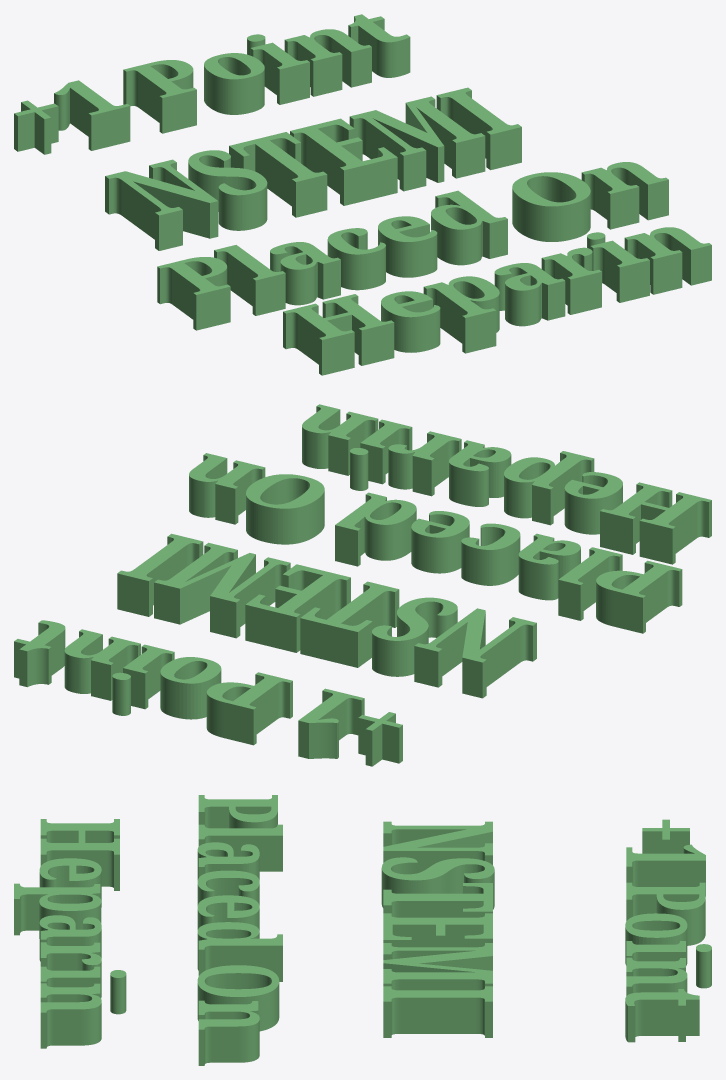
The model's file is poshep.gltf.
3 renders of one model, top to bottom at view 1: azimuth 30°, elevation 25°; view 2: azimuth 150°, elevation 25°; view 3: azimuth 270°, elevation 25°, orthographic.
Visible parts, largest first — view 1: Mesh_Mesh_head_geo001_lambert2SG001; view 2: Mesh_Mesh_head_geo001_lambert2SG001; view 3: Mesh_Mesh_head_geo001_lambert2SG001.
Part boxes in pixels (x1,y1,x2,y2): Mesh_Mesh_head_geo001_lambert2SG001: [14, 14, 711, 375]; Mesh_Mesh_head_geo001_lambert2SG001: [14, 404, 711, 766]; Mesh_Mesh_head_geo001_lambert2SG001: [14, 795, 711, 1065].
Bounding box in the file's own units: 139 × 10 × 174.
